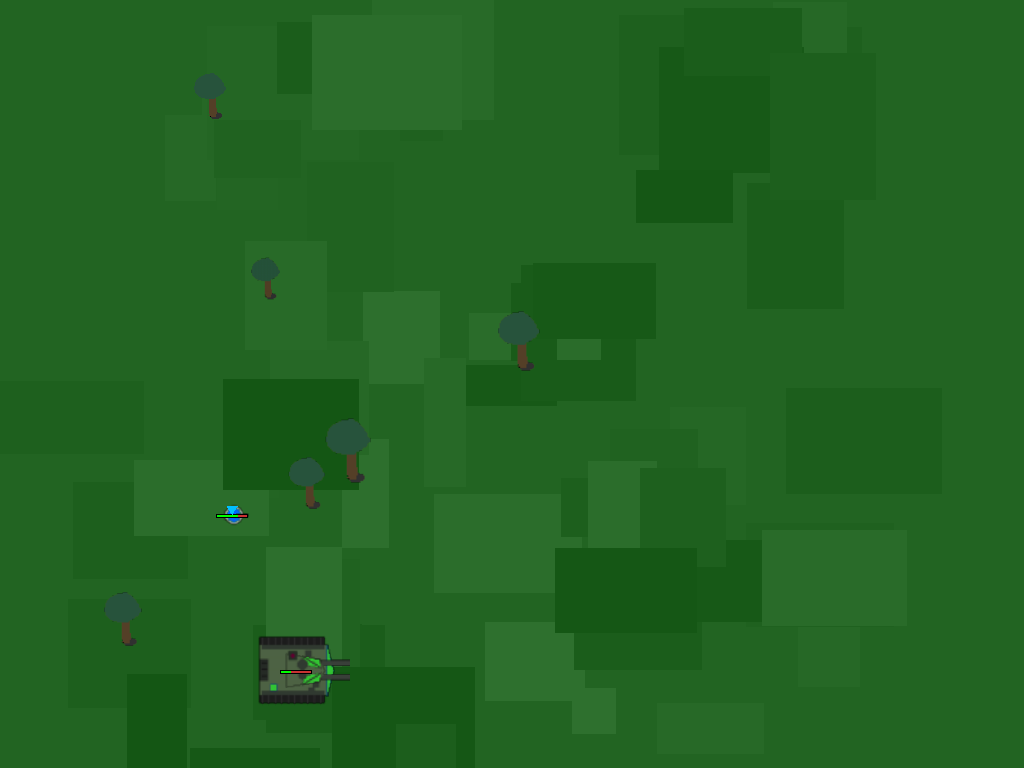Rifleman: (213, 494, 250, 531)
Type99: (260, 633, 332, 705)
